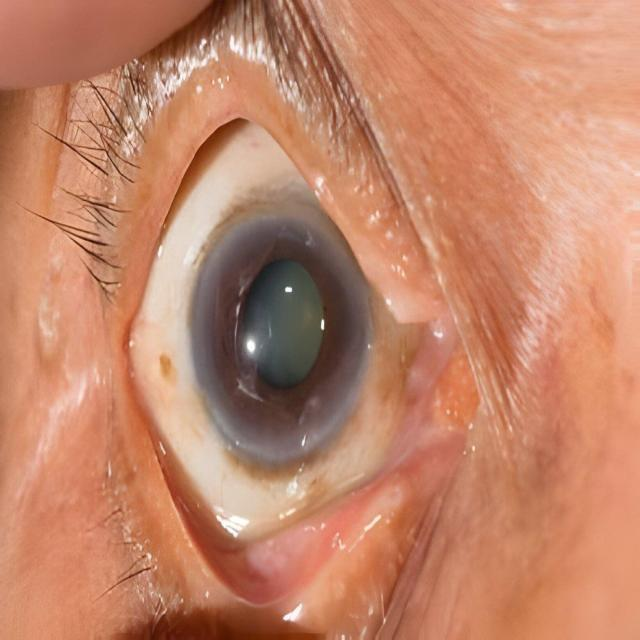Cataract: (170, 200, 370, 458)
